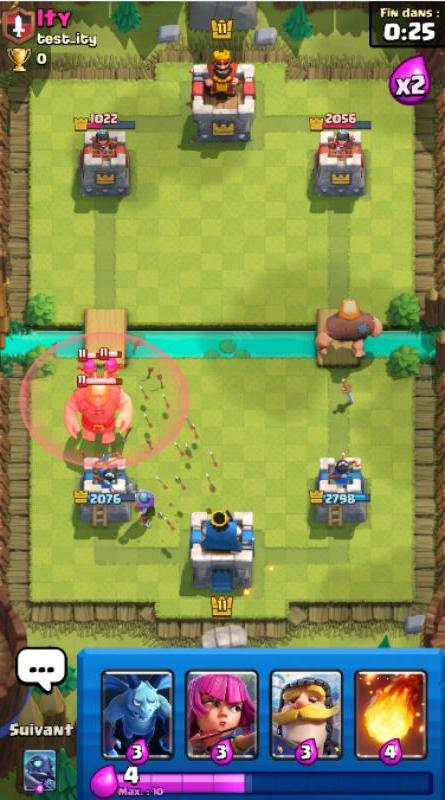archere: (75, 348, 103, 380), (100, 347, 125, 381)
geant: (64, 375, 134, 445), (314, 296, 383, 360)
mousquetaire: (128, 481, 156, 528)
